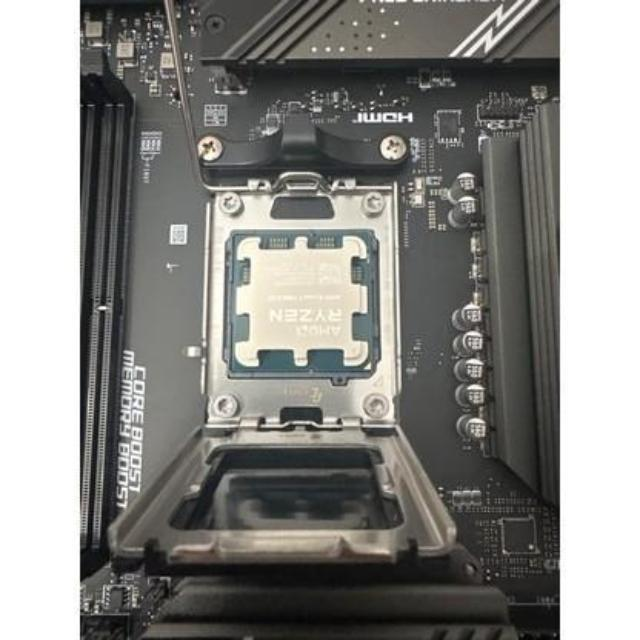CPU: (236, 236, 370, 373)
